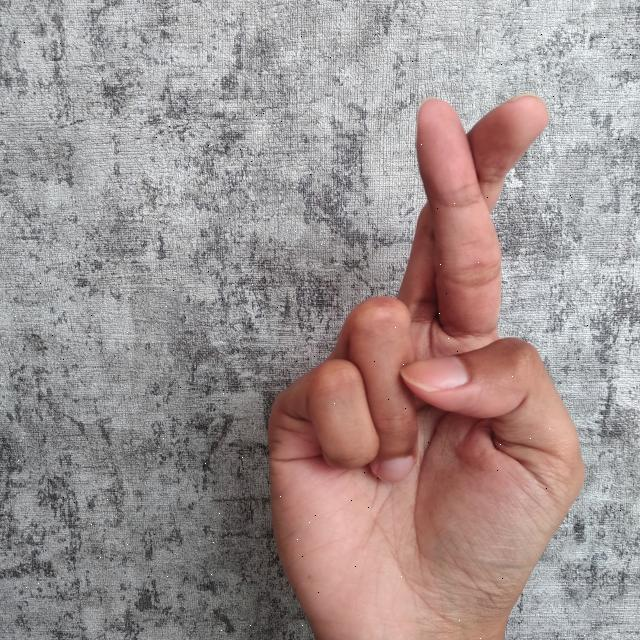R: (266, 84, 602, 640)
